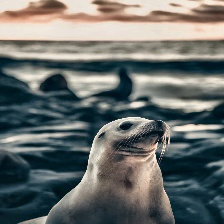seal: (45, 116, 175, 224)
